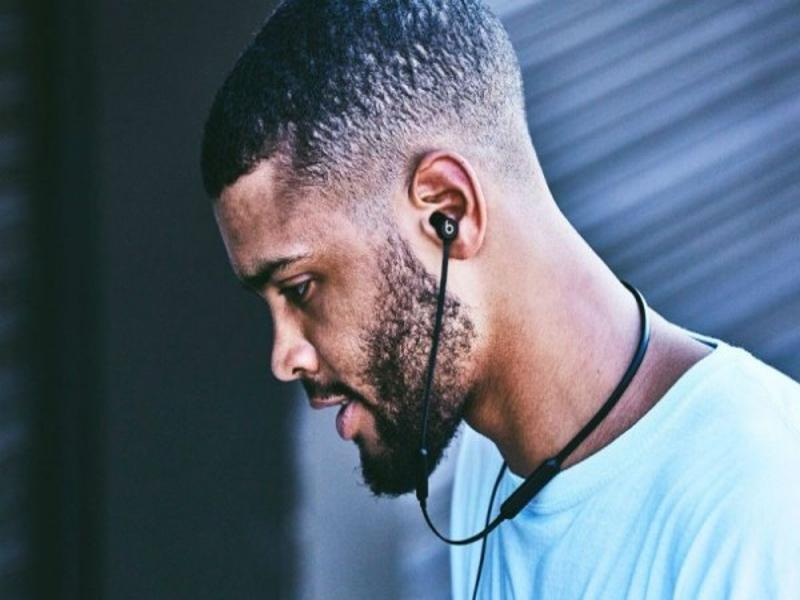headphone: (427, 205, 460, 237)
